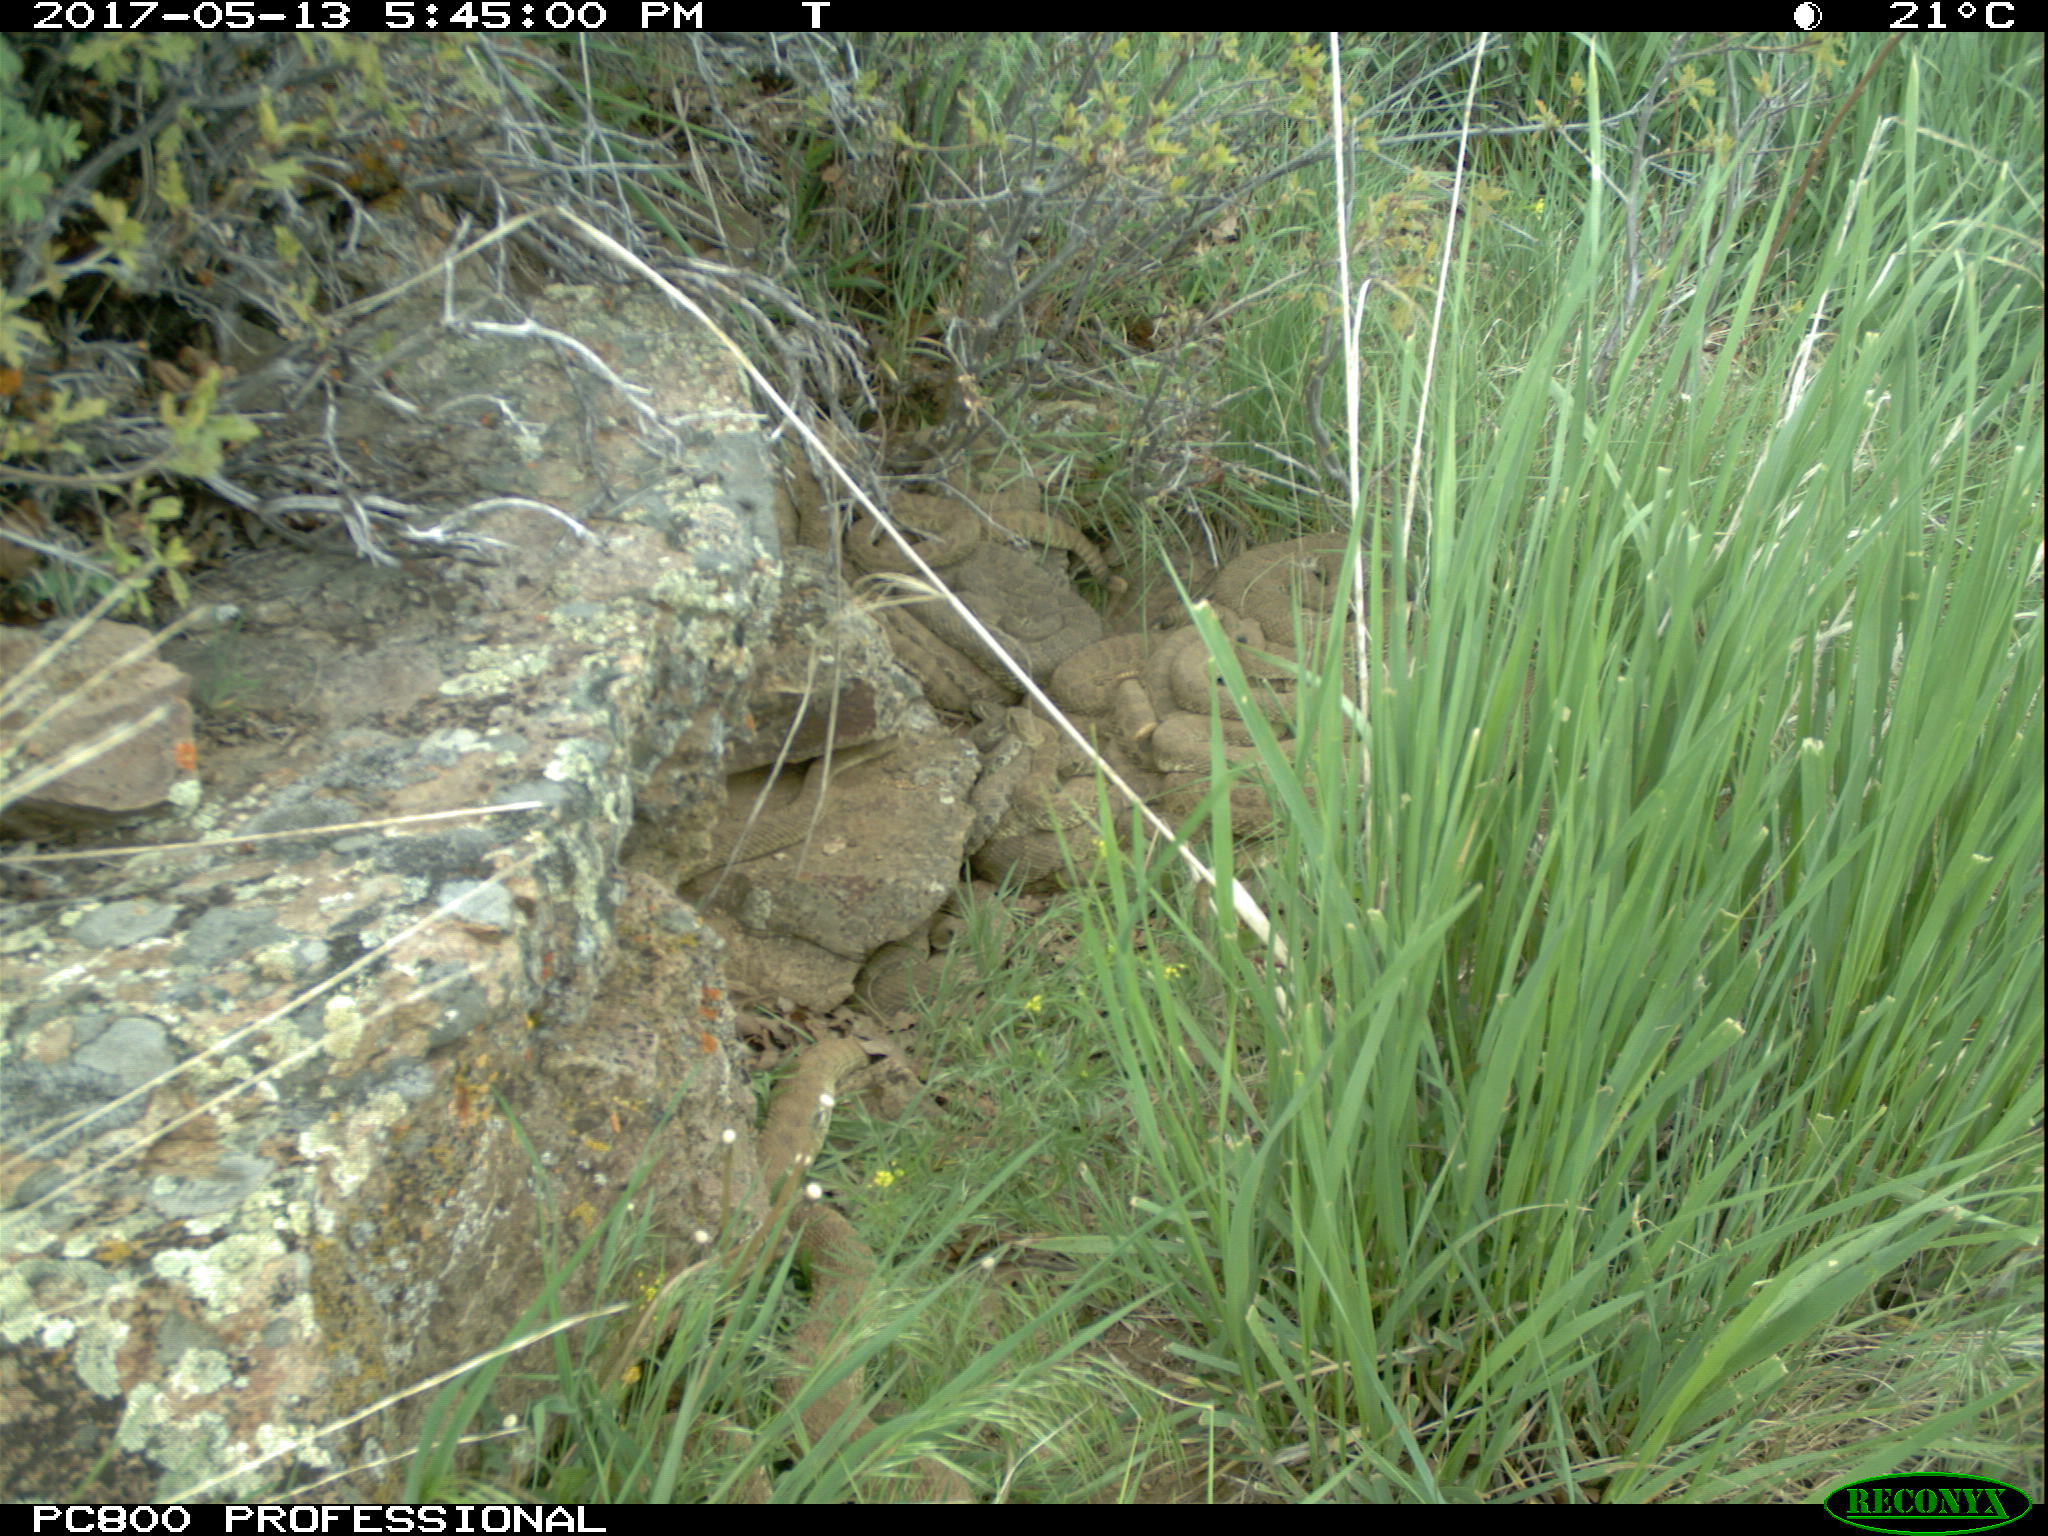snake: (774, 1208, 876, 1460), (764, 1031, 861, 1270), (1071, 636, 1268, 752), (1219, 531, 1380, 650), (966, 705, 1109, 836), (863, 892, 1006, 1013), (1153, 724, 1321, 828), (885, 597, 1021, 720), (974, 503, 1130, 599), (834, 478, 972, 566), (719, 762, 840, 862)
